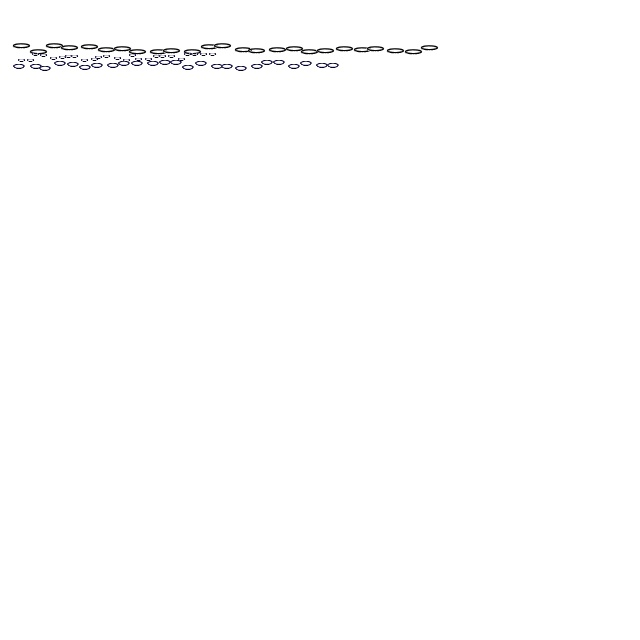chain: (28, 48, 50, 56), (44, 42, 66, 50), (96, 46, 118, 54), (112, 45, 134, 53), (148, 48, 170, 56), (182, 48, 204, 56), (212, 42, 234, 50), (246, 47, 268, 55), (284, 45, 306, 53), (334, 45, 356, 53), (352, 46, 374, 54), (12, 42, 32, 50), (60, 44, 80, 52), (80, 43, 100, 51), (128, 48, 148, 56), (162, 47, 182, 55), (200, 43, 220, 51), (234, 46, 254, 54), (268, 46, 288, 54), (300, 48, 320, 56), (316, 47, 336, 55), (366, 45, 386, 53), (386, 47, 406, 55), (404, 48, 424, 56), (420, 44, 440, 52), (12, 61, 26, 71), (29, 61, 43, 71), (38, 63, 52, 73), (53, 58, 67, 68), (66, 59, 80, 69), (78, 62, 92, 72), (90, 60, 104, 70), (106, 60, 120, 70), (117, 58, 131, 68), (130, 58, 144, 68), (146, 58, 160, 68), (158, 57, 172, 67), (169, 57, 183, 67), (181, 62, 195, 72), (194, 58, 208, 68), (210, 61, 224, 71), (220, 61, 234, 71), (234, 63, 248, 73), (250, 61, 264, 71), (260, 57, 274, 67), (272, 57, 286, 67), (287, 61, 301, 71), (299, 58, 313, 68), (315, 60, 329, 70), (326, 60, 340, 70), (26, 57, 36, 63), (58, 54, 68, 60), (64, 53, 74, 59), (70, 53, 80, 59), (80, 57, 90, 63), (90, 56, 100, 62), (94, 54, 104, 60), (102, 53, 112, 59), (122, 57, 132, 63), (128, 52, 138, 58), (134, 56, 144, 62), (144, 56, 154, 62), (152, 53, 162, 59), (158, 53, 168, 59), (190, 51, 200, 57), (208, 51, 218, 57), (18, 57, 26, 63), (32, 51, 40, 57), (40, 52, 48, 58), (50, 55, 58, 61), (114, 55, 122, 61), (168, 53, 176, 59), (178, 56, 186, 62), (184, 51, 192, 57), (200, 51, 208, 57)
